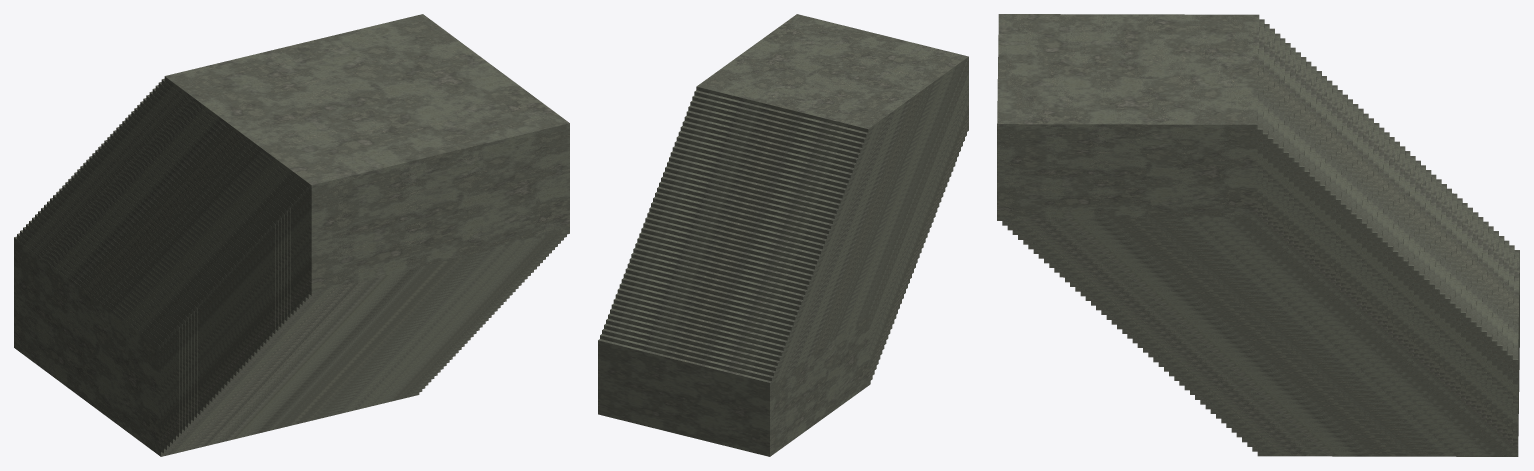
Rendered from Slope.gltf.
3 views of the same model, side by side, from view 1: azimuth 30°, elevation 25°; view 2: azimuth 150°, elevation 25°; view 3: azimuth 270°, elevation 25° (orthographic). The views are drawn at different scales.
Parts seen in each view (by area): view 1: 立方体.001, 立方体.051, 立方体.011, 立方体.018, 立方体.020, 立方体.010, 立方体.012, 立方体.013, 立方体.014, 立方体.015, 立方体.017, 立方体.019 (+39 smaller); view 2: 立方体.051, 立方体.001, 立方体.013, 立方体.044, 立方体.010, 立方体.038, 立方体.040, 立方体.009, 立方体.011, 立方体.012, 立方体.014, 立方体.039 (+39 smaller); view 3: 立方体.001, 立方体.051, 立方体.042, 立方体.004, 立方体.018, 立方体.028, 立方体.032, 立方体.021, 立方体.025, 立方体.045, 立方体.049, 立方体.005 (+39 smaller).
Part boxes in pixels (x1,y1,x2,y2): 立方体.001: [164, 14, 569, 295]; 立方体.051: [14, 236, 419, 456]; 立方体.011: [131, 111, 536, 331]; 立方体.018: [113, 130, 518, 350]; 立方体.020: [107, 136, 512, 356]; 立方体.010: [137, 104, 542, 324]; 立方体.012: [134, 108, 539, 327]; 立方体.013: [125, 117, 530, 337]; 立方体.014: [128, 114, 533, 334]; 立方体.015: [122, 120, 527, 340]; 立方体.017: [116, 127, 521, 347]; 立方体.019: [110, 133, 515, 353]; 立方体.051: [598, 310, 870, 456]; 立方体.001: [696, 14, 968, 132]; 立方体.013: [670, 123, 943, 198]; 立方体.044: [611, 275, 884, 350]; 立方体.010: [678, 102, 951, 178]; 立方体.038: [623, 244, 896, 320]; 立方体.040: [619, 254, 892, 330]; 立方体.009: [680, 97, 953, 173]; 立方体.011: [674, 112, 947, 188]; 立方体.012: [676, 107, 949, 183]; 立方体.014: [672, 118, 945, 193]; 立方体.039: [621, 249, 894, 325]; 立方体.001: [997, 14, 1259, 221]; 立方体.051: [1257, 250, 1519, 456]; 立方体.042: [1210, 207, 1472, 414]; 立方体.004: [1012, 28, 1274, 235]; 立方体.018: [1085, 94, 1347, 301]; 立方体.028: [1137, 141, 1399, 348]; 立方体.032: [1158, 160, 1420, 367]; 立方体.021: [1101, 108, 1363, 315]; 立方体.025: [1122, 127, 1384, 334]; 立方体.045: [1226, 221, 1488, 428]; 立方体.049: [1247, 240, 1509, 447]; 立方体.005: [1018, 33, 1280, 240].
Size of the model in its own units: 10.14 by 14.1 by 20.06.
Materials: 51 (51 with a texture image).
